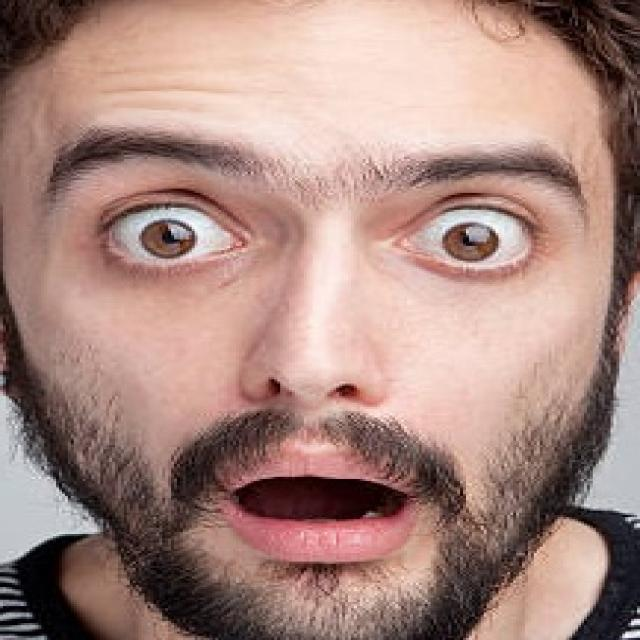Anxiety: (0, 0, 624, 638)
